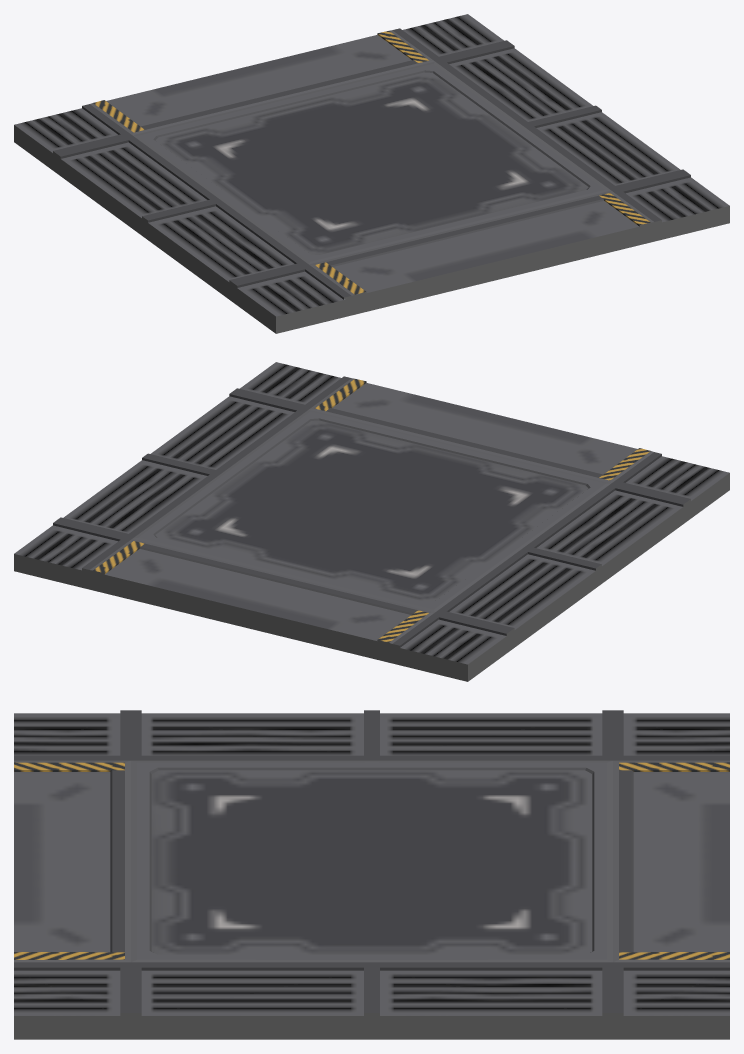
File: SM_Bld_Floor_04.fbx
The picture shows the model from 3 angles, top to bottom: view 1: azimuth 30°, elevation 25°; view 2: azimuth 150°, elevation 25°; view 3: azimuth 270°, elevation 25°; orthographic projection. The views are drawn at different scales.
Visible parts, largest first — view 1: SM_Bld_Floor_04; view 2: SM_Bld_Floor_04; view 3: SM_Bld_Floor_04.
Part boxes in pixels (x1,y1,x2,y2): SM_Bld_Floor_04: (14,14,729,333); SM_Bld_Floor_04: (14,362,729,681); SM_Bld_Floor_04: (14,710,729,1039).
Size of the model in its own units: 500 by 21.2 by 500.
